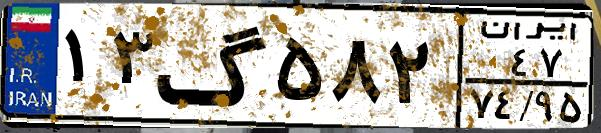1: (57, 26, 110, 100)
2: (385, 28, 445, 110)
3: (110, 28, 156, 98)
4: (508, 27, 537, 80), (495, 70, 520, 125)
5: (270, 28, 330, 110), (560, 70, 590, 125)
7: (537, 27, 568, 80), (470, 70, 495, 125)
8: (330, 28, 385, 110)
9: (535, 70, 560, 125)
گ: (156, 12, 270, 120)
